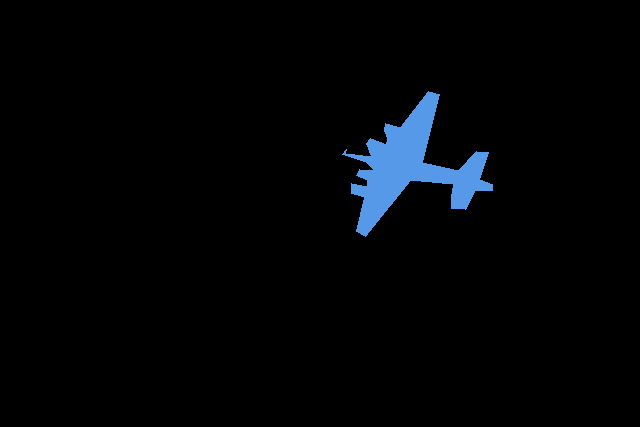Airplane: (342, 91, 492, 236)
